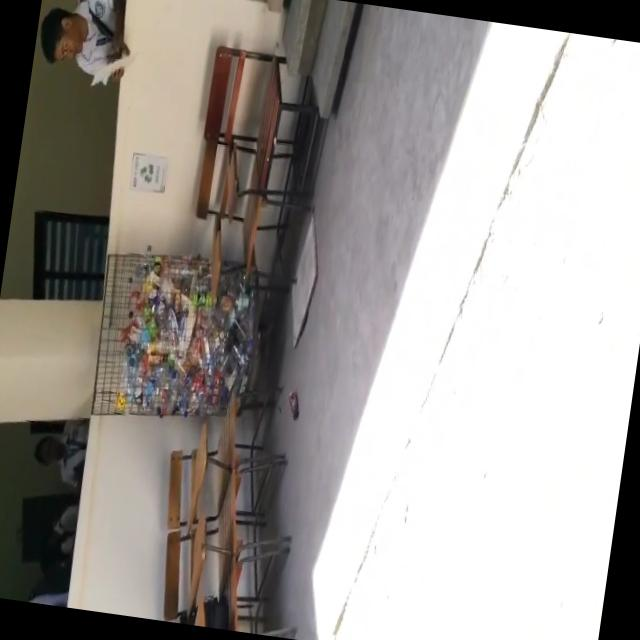Bottle: (287, 389, 300, 420)
